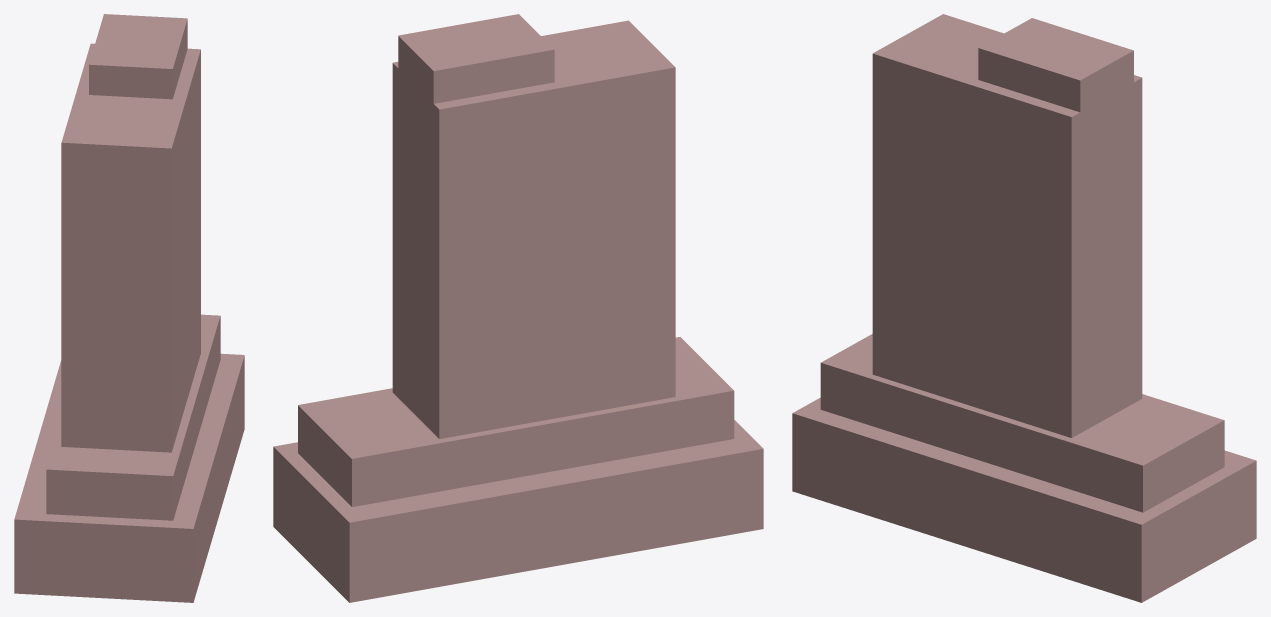
The model's file is 26-park-current-plan.glb.
3 renders of one model, left to right at view 1: azimuth 30°, elevation 25°; view 2: azimuth 150°, elevation 25°; view 3: azimuth 270°, elevation 25°, orthographic. The views are drawn at different scales.
Parts seen in each view (by area): view 1: wf-26park-tower26, wf-26park-podium3, wf-26park-podium6, wf-26park-mechanical; view 2: wf-26park-tower26, wf-26park-podium3, wf-26park-podium6, wf-26park-mechanical; view 3: wf-26park-tower26, wf-26park-podium3, wf-26park-podium6, wf-26park-mechanical.
Part boxes in pixels (box(x1,y1,x2,y2)): wf-26park-tower26: box(61, 43, 200, 452); wf-26park-podium3: box(14, 353, 244, 602); wf-26park-podium6: box(46, 314, 220, 520); wf-26park-mechanical: box(89, 14, 187, 99); wf-26park-tower26: box(392, 20, 675, 438); wf-26park-podium3: box(273, 420, 763, 602); wf-26park-podium6: box(298, 337, 734, 507); wf-26park-mechanical: box(398, 14, 554, 103); wf-26park-tower26: box(872, 14, 1142, 437); wf-26park-podium3: box(792, 397, 1256, 602); wf-26park-podium6: box(820, 334, 1224, 512); wf-26park-mechanical: box(978, 18, 1133, 112).
Size of the model in its own units: 70.96 by 89.95 by 79.16.
